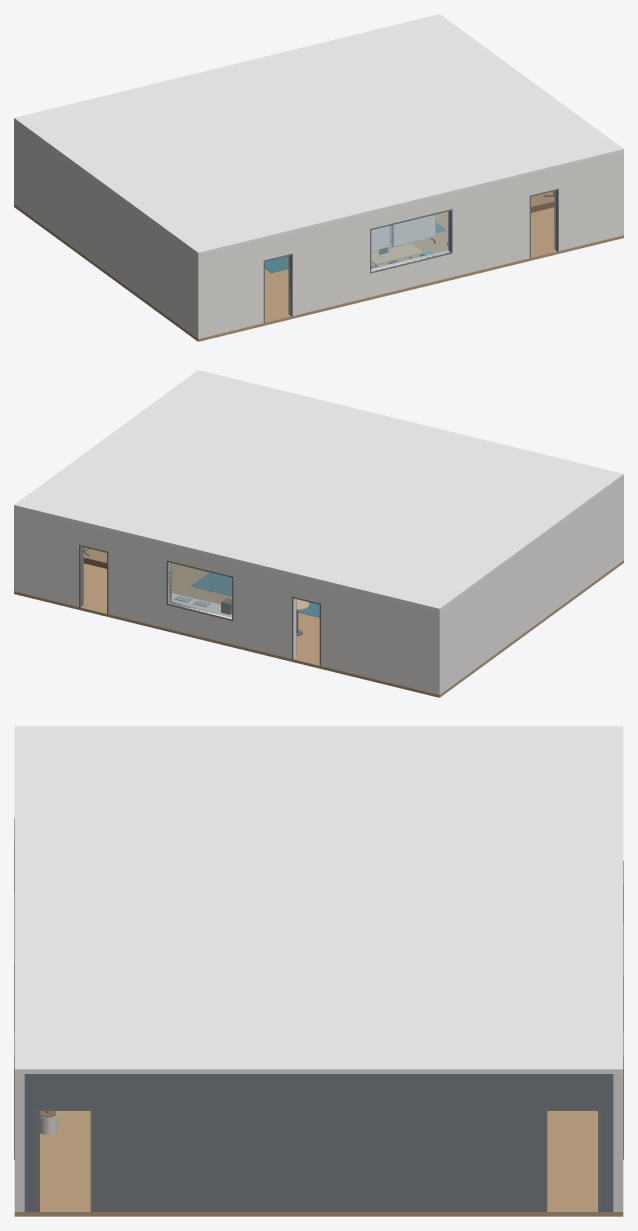
The picture shows the model from 3 angles, top to bottom: view 1: azimuth 30°, elevation 25°; view 2: azimuth 150°, elevation 25°; view 3: azimuth 270°, elevation 25°; orthographic projection. The views are drawn at different scales.
Visible parts, largest first — view 1: Ceiling, Wall_S, Wall_W, Floor, Frames_S, Partition_3, WorkshopTable; view 2: Ceiling, Wall_N, Wall_W, Floor, Frames_N, FloorRug; view 3: Ceiling, Wall_E, Floor, Frames_E, Wall_S, Wall_N.
Part boxes in pixels (left/top/right/bottom): Ceiling: left=14, top=14, right=623, bottom=255; Wall_S: left=195, top=152, right=623, bottom=338; Wall_W: left=17, top=123, right=195, bottom=336; Floor: left=14, top=204, right=623, bottom=341; Frames_S: left=263, top=188, right=558, bottom=322; Partition_3: left=392, top=215, right=435, bottom=246; WorkshopTable: left=371, top=243, right=423, bottom=267; Ceiling: left=14, top=370, right=623, bottom=611; Wall_N: left=14, top=508, right=442, bottom=694; Wall_W: left=442, top=479, right=620, bottom=692; Floor: left=14, top=560, right=623, bottom=697; Frames_N: left=79, top=544, right=321, bottom=666; FloorRug: left=191, top=572, right=319, bottom=617; Ceiling: left=14, top=726, right=623, bottom=1073; Wall_E: left=24, top=1074, right=613, bottom=1211; Floor: left=14, top=1111, right=623, bottom=1216; Frames_E: left=37, top=1108, right=600, bottom=1212; Wall_S: left=14, top=1074, right=24, bottom=1211; Wall_N: left=613, top=1074, right=623, bottom=1211.
Size of the model in its own units: 16.01 by 3.2 by 12.02.
